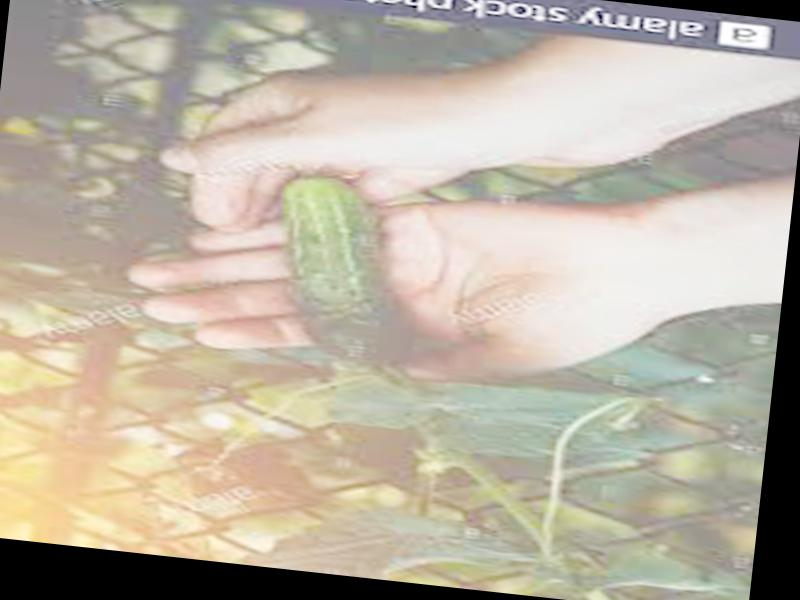Cucumber: (261, 170, 425, 367)
